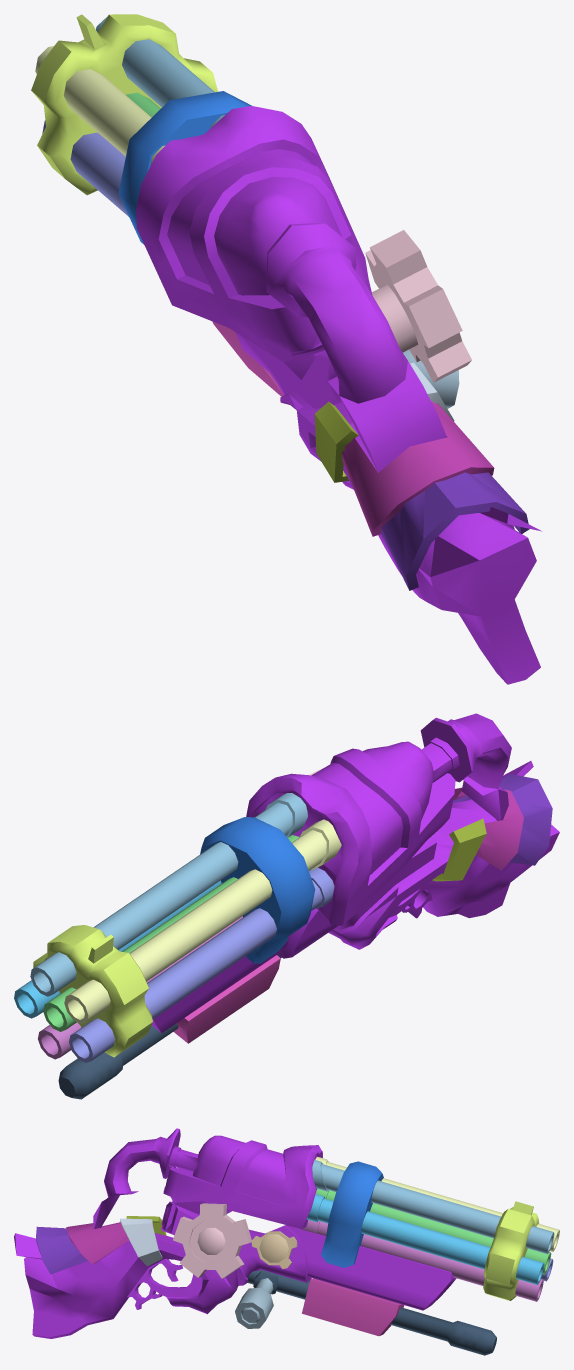
The picture shows the model from 3 angles, top to bottom: view 1: azimuth 30°, elevation 25°; view 2: azimuth 150°, elevation 25°; view 3: azimuth 270°, elevation 25°; orthographic projection. The views are drawn at different scales.
Visible parts, largest first — view 1: Plane.005_secondary_0, Plane.005_secondary_0.004, Plane.005_secondary_0.011, split_parent_15, split_parent_14, Plane.005_secondary_0.148, Plane.005_secondary_0.121, Plane.005_secondary_0.109, Plane.005_secondary_0.122, Plane.005_secondary_0.266, Plane.005_secondary_0.068, Plane.005_secondary_0.197; view 2: Plane.005_secondary_0, Plane.005_secondary_0.121, Plane.005_secondary_0.109, Plane.005_secondary_0.122, Plane.005_secondary_0.148, Plane.005_secondary_0.004, split_parent_14, Plane.005_secondary_0.068, Plane.005_secondary_0.008, split_parent_15, Plane.005_secondary_0.108, Plane.005_secondary_0.266 (+2 smaller); view 3: Plane.005_secondary_0, Plane.005_secondary_0.109, Plane.005_secondary_0.110, Plane.005_secondary_0.011, Plane.005_secondary_0.148, Plane.005_secondary_0.068, Plane.005_secondary_0.008, Plane.005_secondary_0.004, Plane.005_secondary_0.112, Plane.005_secondary_0.108, split_parent_15, split_parent_14 (+4 smaller).
Part boxes in pixels (x1=…): Plane.005_secondary_0: x1=136, y1=106, x2=541, y2=684; Plane.005_secondary_0.004: x1=31, y1=14, x2=217, y2=195; Plane.005_secondary_0.011: x1=365, y1=230, x2=471, y2=382; split_parent_15: x1=341, y1=401, x2=494, y2=536; split_parent_14: x1=381, y1=472, x2=529, y2=590; Plane.005_secondary_0.148: x1=118, y1=91, x2=251, y2=244; Plane.005_secondary_0.121: x1=35, y1=46, x2=165, y2=165; Plane.005_secondary_0.109: x1=96, y1=16, x2=224, y2=128; Plane.005_secondary_0.122: x1=42, y1=120, x2=128, y2=216; Plane.005_secondary_0.266: x1=314, y1=401, x2=358, y2=482; Plane.005_secondary_0.068: x1=212, y1=321, x2=283, y2=396; Plane.005_secondary_0.197: x1=403, y1=349, x2=459, y2=408; Plane.005_secondary_0: x1=152, y1=713, x2=559, y2=1032; Plane.005_secondary_0.121: x1=64, y1=819, x2=341, y2=1023; Plane.005_secondary_0.109: x1=30, y1=793, x2=307, y2=996; Plane.005_secondary_0.122: x1=69, y1=867, x2=334, y2=1062; Plane.005_secondary_0.148: x1=200, y1=817, x2=315, y2=963; Plane.005_secondary_0.004: x1=33, y1=925, x2=152, y2=1057; split_parent_14: x1=452, y1=774, x2=552, y2=865; Plane.005_secondary_0.068: x1=173, y1=955, x2=280, y2=1043; Plane.005_secondary_0.008: x1=58, y1=954, x2=281, y2=1099; split_parent_15: x1=453, y1=787, x2=523, y2=870; Plane.005_secondary_0.108: x1=43, y1=835, x2=298, y2=1031; Plane.005_secondary_0.266: x1=432, y1=818, x2=486, y2=881; Plane.005_secondary_0: x1=14, y1=1128, x2=456, y2=1338; Plane.005_secondary_0.109: x1=312, y1=1159, x2=554, y2=1254; Plane.005_secondary_0.110: x1=306, y1=1194, x2=544, y2=1284; Plane.005_secondary_0.011: x1=173, y1=1203, x2=252, y2=1278; Plane.005_secondary_0.148: x1=321, y1=1161, x2=383, y2=1267; Plane.005_secondary_0.068: x1=302, y1=1278, x2=404, y2=1336; Plane.005_secondary_0.008: x1=240, y1=1270, x2=496, y2=1355; Plane.005_secondary_0.004: x1=483, y1=1201, x2=539, y2=1300; Plane.005_secondary_0.112: x1=300, y1=1220, x2=543, y2=1301; Plane.005_secondary_0.108: x1=315, y1=1189, x2=551, y2=1274; split_parent_15: x1=66, y1=1222, x2=153, y2=1264; split_parent_14: x1=36, y1=1226, x2=87, y2=1274.
Bounding box in the file's own units: 0.2924 × 0.3799 × 1.
